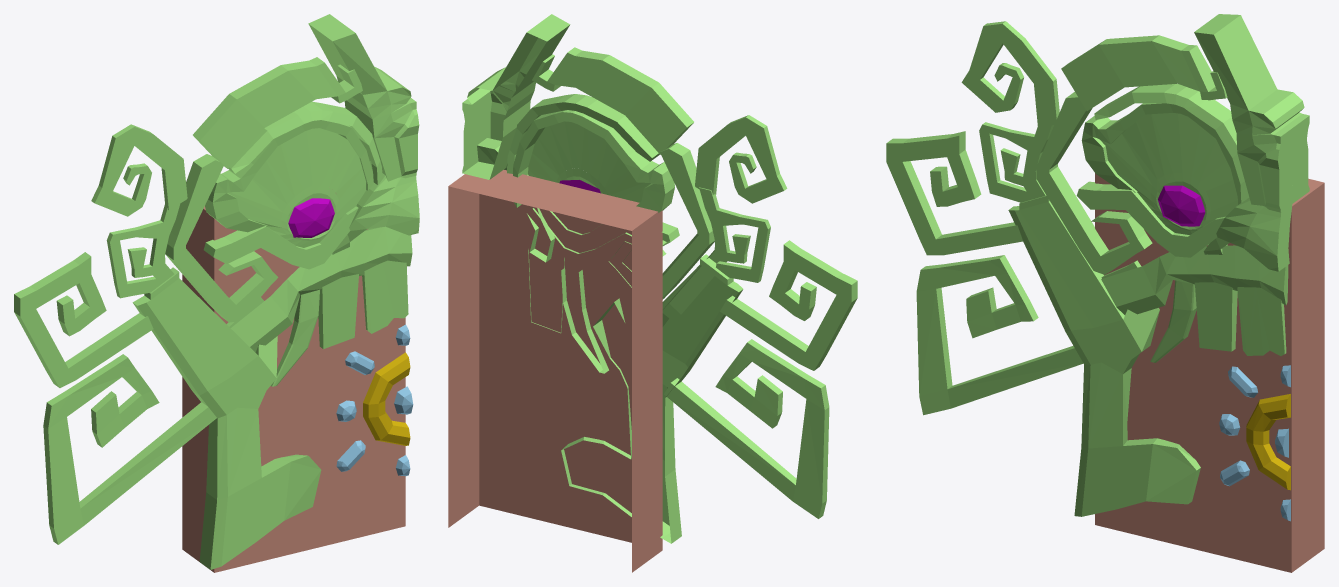
The model's file is Door_LVL5_Left.fbx.
3 renders of one model, left to right at view 1: azimuth 30°, elevation 25°; view 2: azimuth 150°, elevation 25°; view 3: azimuth 330°, elevation 25°, orthographic. The views are drawn at different scales.
Visible parts, largest first — view 1: Porte_LVL5_Left; view 2: Porte_LVL5_Left; view 3: Porte_LVL5_Left.
Part boxes in pixels (x1=…): Porte_LVL5_Left: x1=14, y1=14, x2=419, y2=572; Porte_LVL5_Left: x1=448, y1=14, x2=857, y2=572; Porte_LVL5_Left: x1=886, y1=14, x2=1324, y2=572.
Size of the model in its own units: 700 by 888 by 144.
